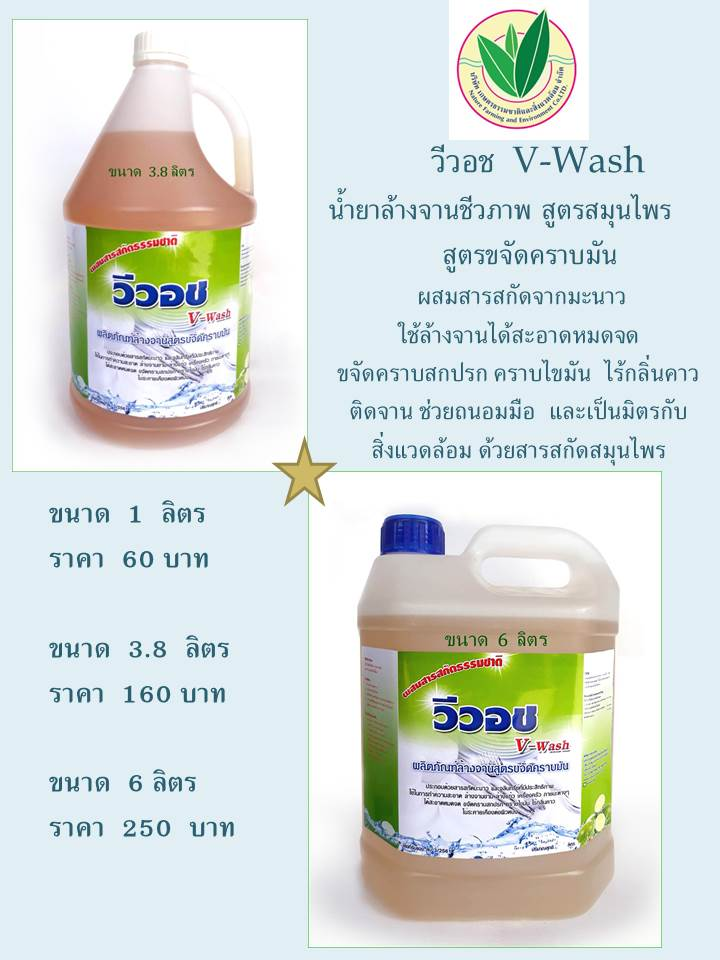Cleaning_solution: (342, 505, 629, 936), (57, 26, 259, 455)
